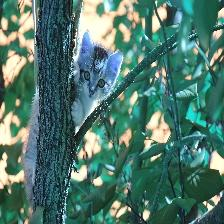kedo: (72, 29, 124, 129)
